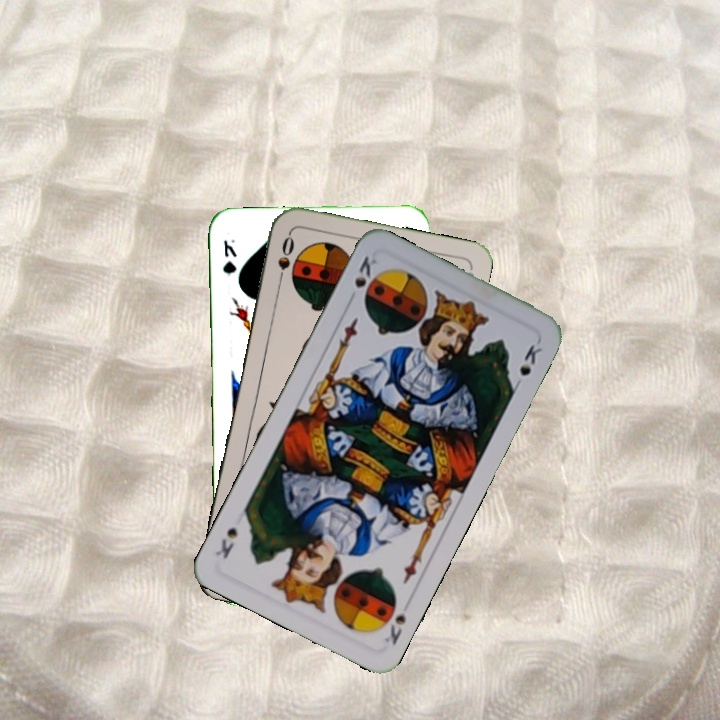GK: (219, 235, 240, 277)
SK: (350, 251, 383, 302), (380, 610, 409, 648)
SO: (274, 230, 297, 289)
